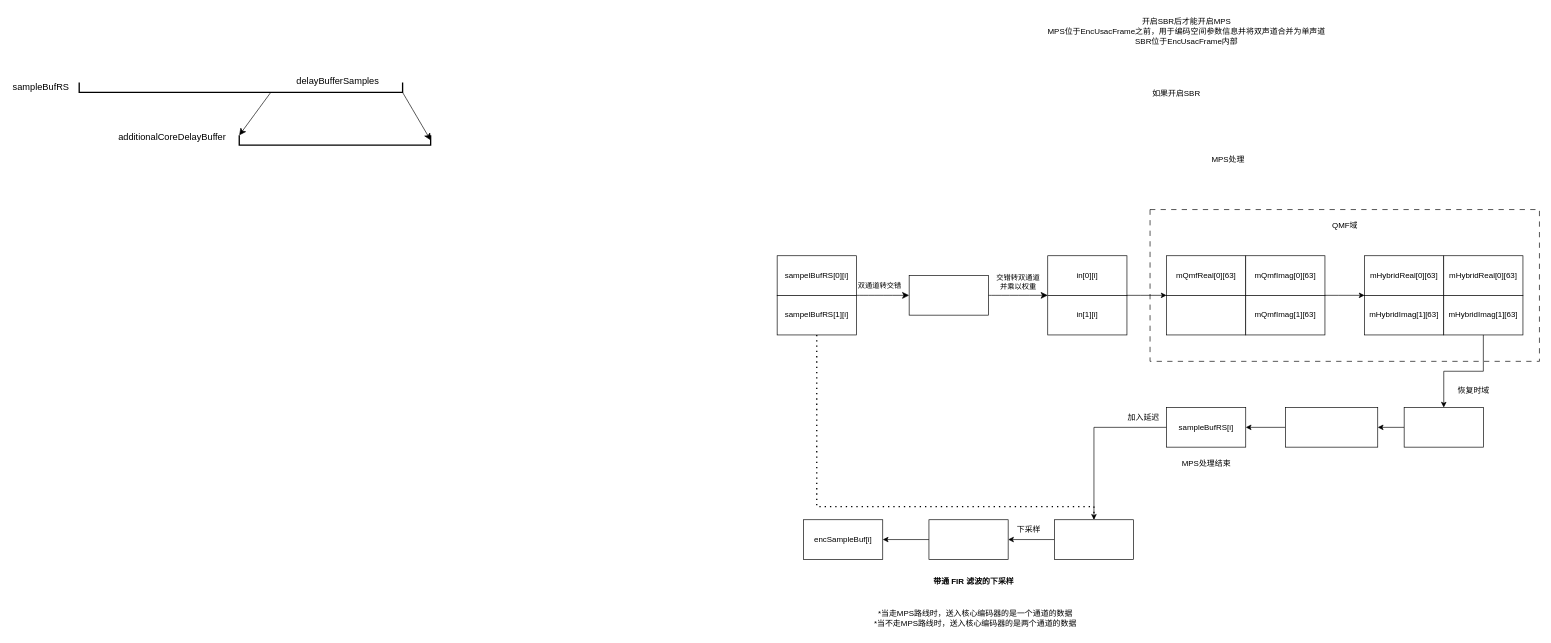
The diagram is 1551 pixels wide and 643 high, and some of its shapes have lost their labels. Here are the shapes that lost their labels. From the top down, the box of each, then its label:
(908, 275, 988, 315): inputBuffer[i]
(1166, 295, 1246, 335): mQmfReal[1][63]
(1285, 407, 1378, 447): downmixBuffer[i] （和信号、差信号交错）
(1403, 407, 1483, 447): downmixBuffer[i]
(928, 519, 1008, 559): sampleBuf[i]
(1054, 519, 1134, 559): tmpBufRS[i]
